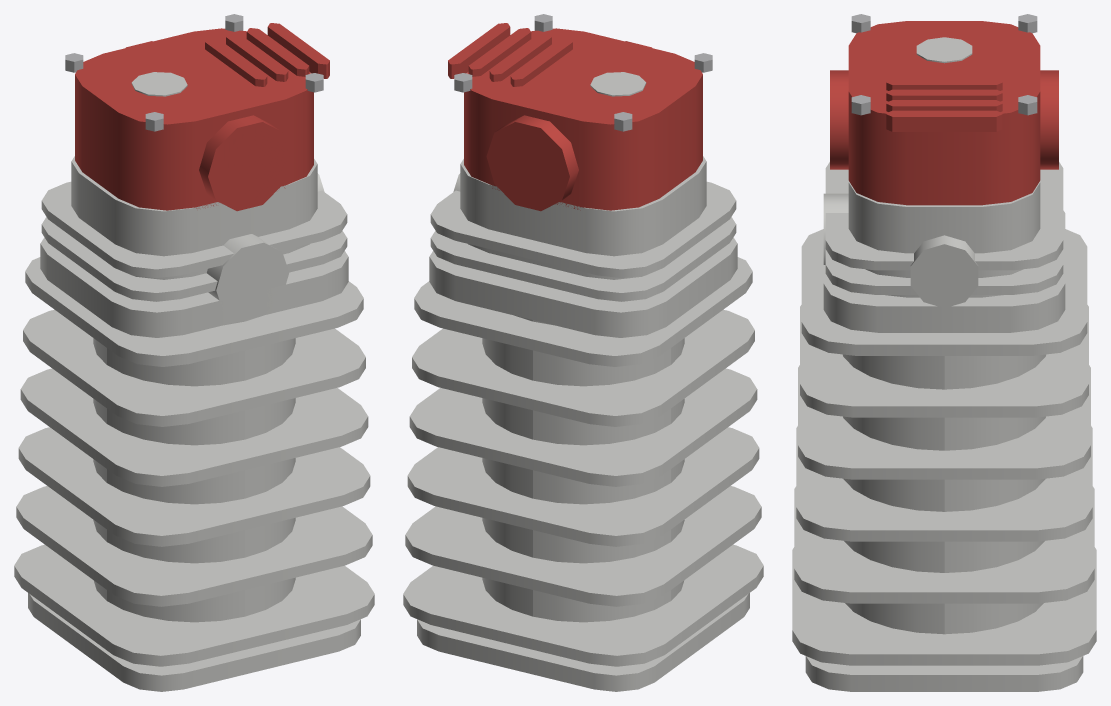
File: hot_cam_2_lod1.glb
The picture shows the model from 3 angles, left to right: view 1: azimuth 30°, elevation 25°; view 2: azimuth 150°, elevation 25°; view 3: azimuth 270°, elevation 25°; orthographic projection. The views are drawn at different scales.
Parts seen in each view (by area): view 1: hot_cam_2_lod1; view 2: hot_cam_2_lod1; view 3: hot_cam_2_lod1.
Part boxes in pixels (x1,y1,x2,y2): hot_cam_2_lod1: (14, 14, 374, 691); hot_cam_2_lod1: (403, 14, 763, 691); hot_cam_2_lod1: (792, 14, 1096, 691).
Bounding box in the file's own units: 0.146 × 0.3043 × 0.146.
